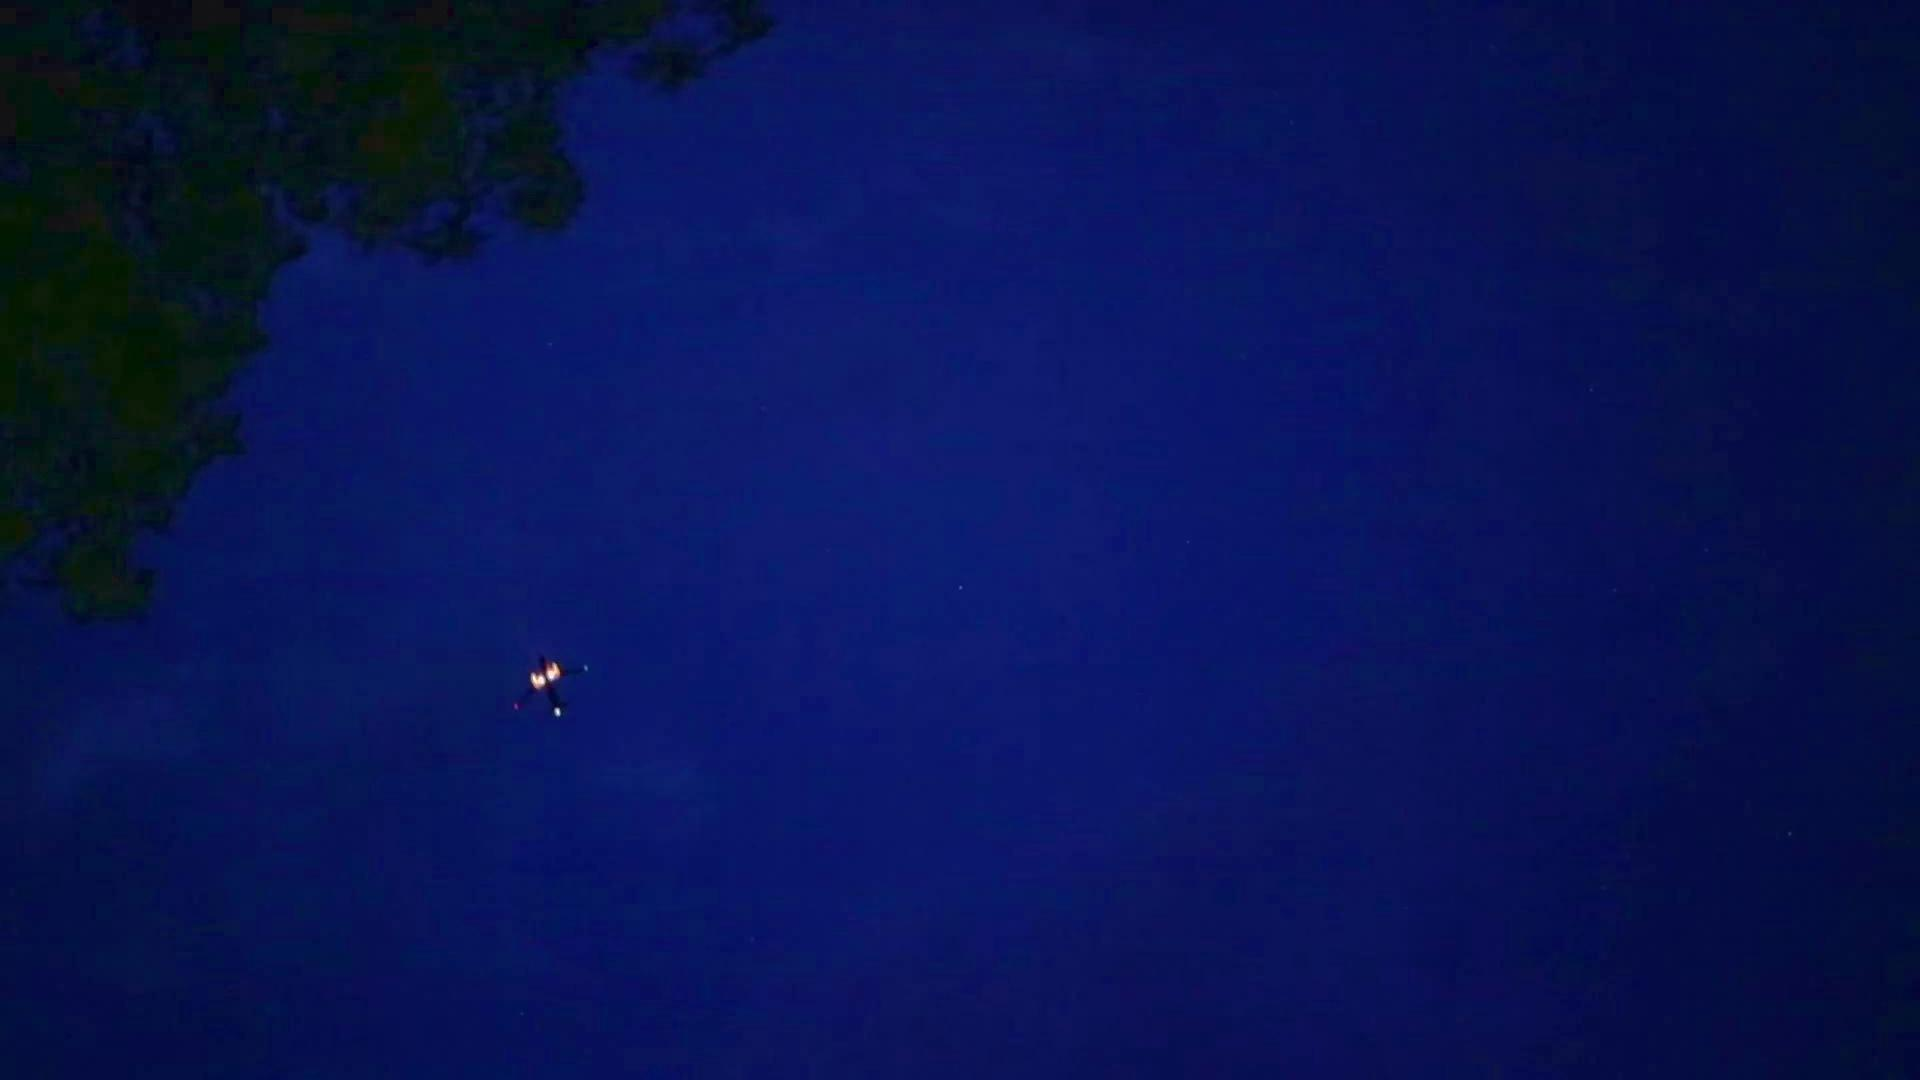Plane: (473, 642, 622, 709)
